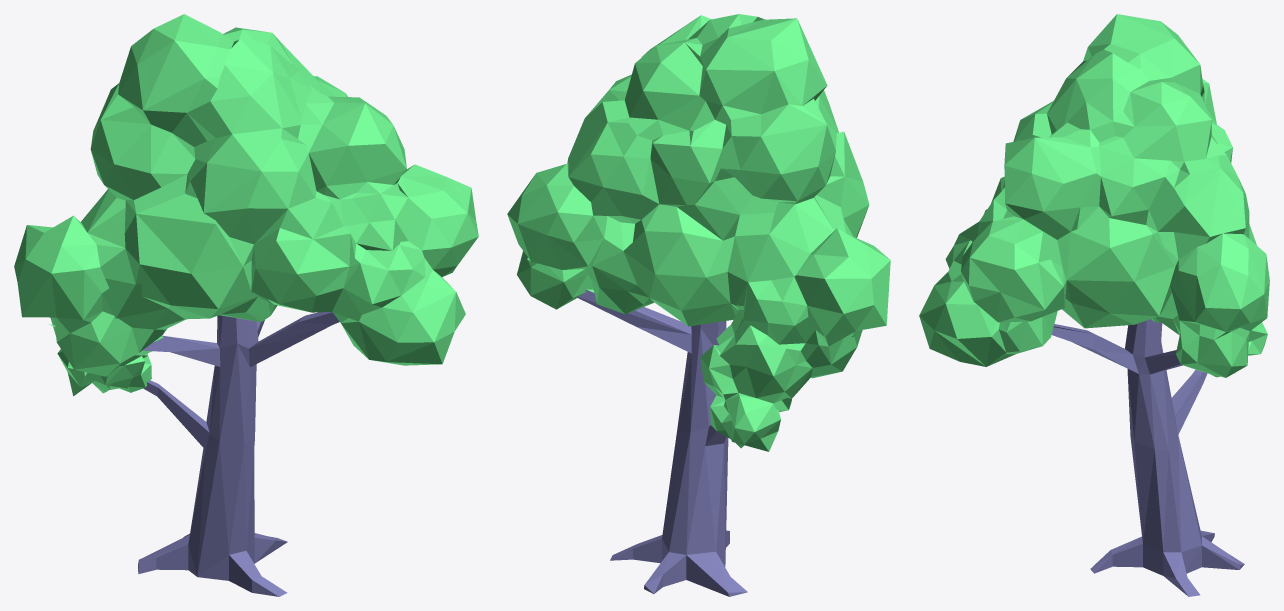
File: SM_Tree_10.fbx
The picture shows the model from 3 angles, left to right: view 1: azimuth 30°, elevation 25°; view 2: azimuth 150°, elevation 25°; view 3: azimuth 270°, elevation 25°; orthographic projection. The views are drawn at different scales.
Parts seen in each view (by area): view 1: _6_tree; view 2: _6_tree; view 3: _6_tree.
Boxes of the visible parts, x1,y1,x2,y2 form: _6_tree: (14,14,478,596); _6_tree: (507,14,890,596); _6_tree: (919,14,1269,596).
Bounding box in the file's own units: 543 × 811 × 500.
